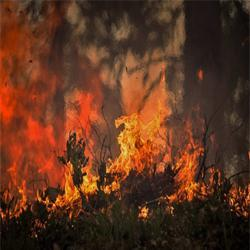fire: (113, 116, 162, 166), (174, 152, 204, 197), (63, 166, 99, 202)
